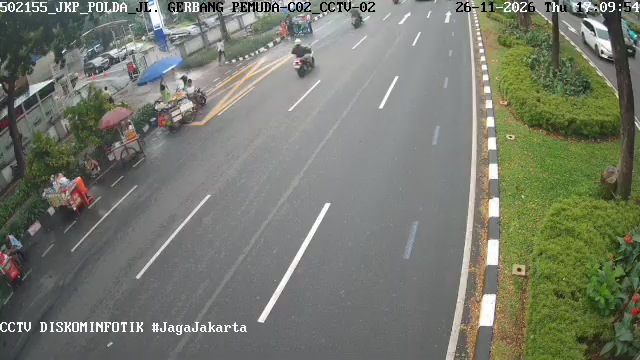Gerobak: (99, 107, 143, 167), (42, 172, 93, 215), (156, 87, 202, 129)
